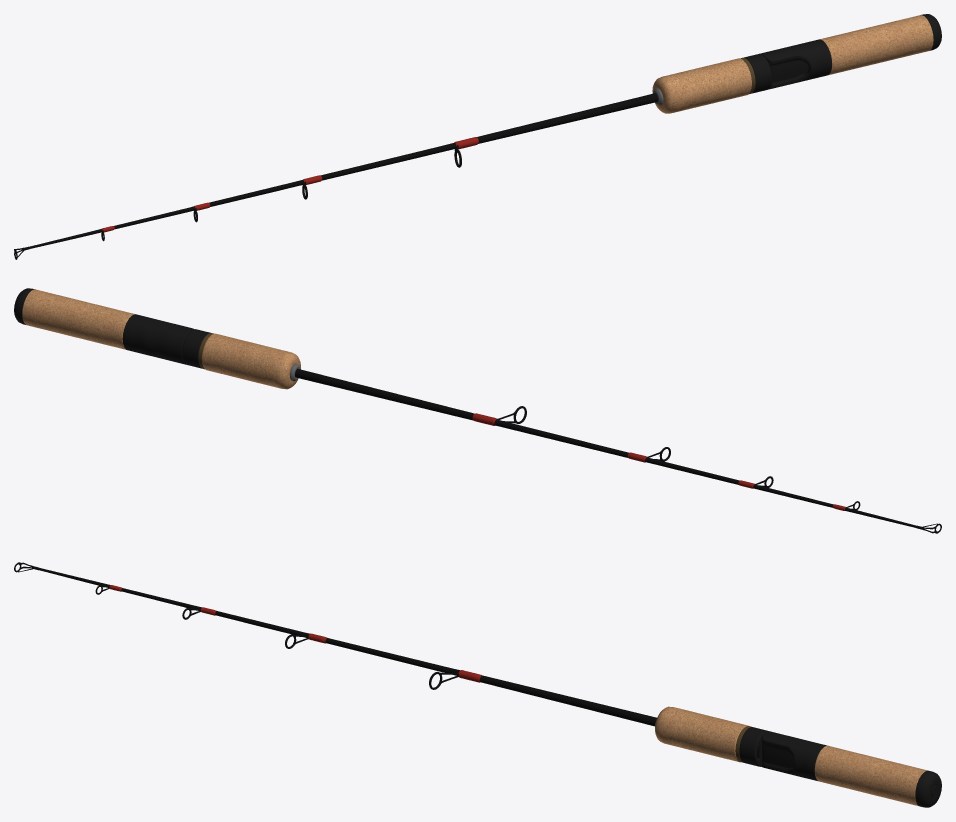
Rendered from Fishing_Rod.fbx.
3 views of the same model, one above another, from view 1: azimuth 30°, elevation 25°; view 2: azimuth 150°, elevation 25°; view 3: azimuth 330°, elevation 25° (orthographic).
Parts seen in each view (by area): view 1: Fishing_Pole_pivot; view 2: Fishing_Pole_pivot; view 3: Fishing_Pole_pivot.
Boxes of the visible parts, x1=… form: Fishing_Pole_pivot: x1=14, y1=14, x2=941, y2=259; Fishing_Pole_pivot: x1=14, y1=288, x2=941, y2=533; Fishing_Pole_pivot: x1=14, y1=562, x2=941, y2=807.
Size of the model in its own units: 126 by 4.52 by 6.41.
1 material, 1 textured.
